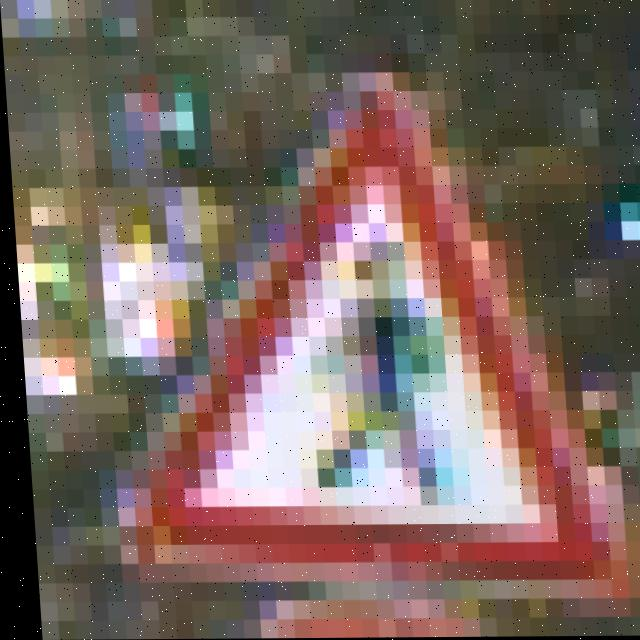crosswalk: (172, 133, 640, 599)
